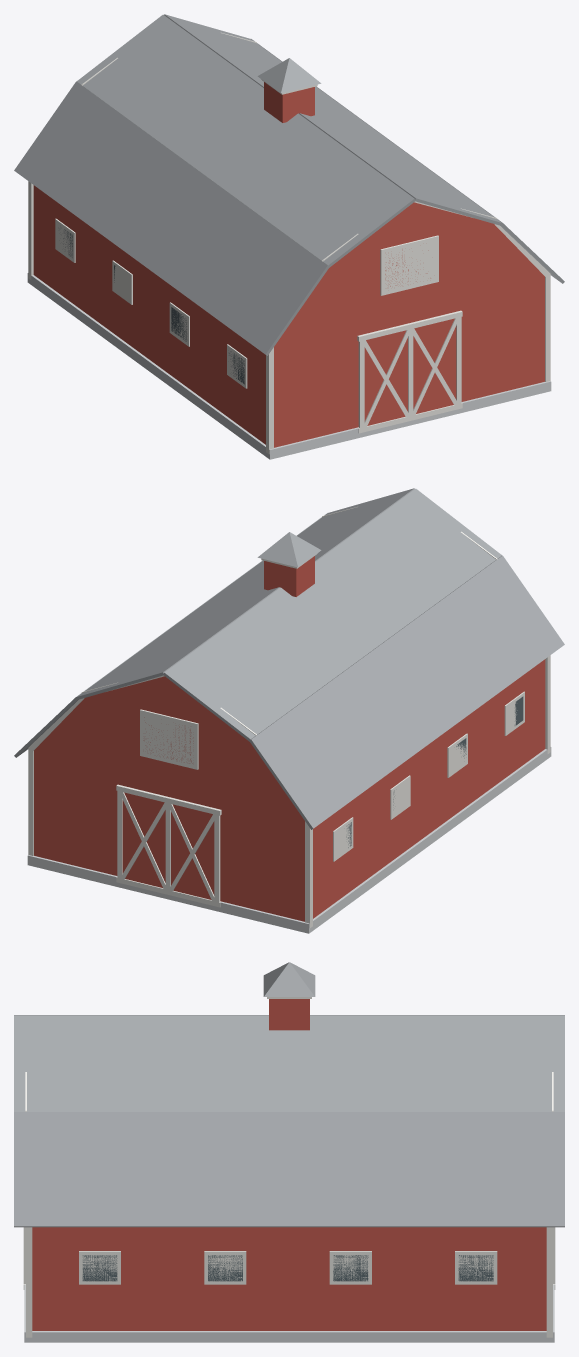
Rendered from Barn.fbx.
3 views of the same model, one above another, from view 1: azimuth 30°, elevation 25°; view 2: azimuth 150°, elevation 25°; view 3: azimuth 270°, elevation 25° (orthographic). The views are drawn at different scales.
Parts seen in each view (by area): view 1: Walls, RoofLow-1, RoofHigh-1, RoofHigh1, Door-1, Foundation, LoftFrame-1, Cupola, CupolaRoof, Corner-1L, DoorFrame-103.9, WindowFrame-13 (+9 smaller); view 2: Walls, RoofLow-1, RoofHigh-1, RoofHigh1, Door1, Foundation, LoftFrame1, Cupola, CupolaRoof, Corner1L, DoorFrame103.9, WindowFrame-13 (+8 smaller); view 3: RoofLow1, RoofHigh1, Walls, Foundation, CupolaRoof, WindowFrame11, WindowFrame12, WindowFrame13, Cupola, WindowFrame10, Window10, Window13 (+5 smaller).
Part boxes in pixels (x1,y1,x2,y2): Walls: (33, 185, 544, 447); RoofLow-1: (14, 81, 329, 355); RoofHigh-1: (77, 14, 415, 267); RoofHigh1: (164, 14, 501, 225); Door-1: (364, 318, 456, 425); Foundation: (27, 273, 551, 459); LoftFrame-1: (380, 235, 438, 295); Cupola: (264, 82, 314, 122); CupolaRoof: (257, 58, 321, 93); Corner-1L: (266, 347, 273, 453); DoorFrame-103.9: (357, 310, 462, 341); WindowFrame-13: (55, 218, 75, 262); Walls: (34, 659, 545, 921); RoofLow-1: (249, 555, 564, 829); RoofHigh-1: (163, 488, 501, 741); RoofHigh1: (77, 488, 414, 699); Door1: (122, 792, 214, 899); Foundation: (27, 747, 551, 933); LoftFrame1: (140, 709, 198, 769); Cupola: (264, 556, 314, 596); CupolaRoof: (257, 532, 321, 567); Corner1L: (305, 821, 312, 927); DoorFrame103.9: (116, 784, 221, 815); WindowFrame-13: (333, 817, 353, 861); RoofLow1: (14, 1112, 564, 1227); RoofHigh1: (14, 1015, 564, 1111); Walls: (32, 1227, 546, 1330); Foundation: (24, 1284, 554, 1342); CupolaRoof: (263, 962, 315, 996); WindowFrame11: (204, 1251, 246, 1284); WindowFrame12: (329, 1251, 371, 1284); WindowFrame13: (455, 1251, 497, 1284); Cupola: (269, 999, 309, 1030); WindowFrame10: (79, 1251, 120, 1284); Window10: (82, 1255, 117, 1281); Window13: (458, 1255, 493, 1281).
Bounding box in the file's own units: 12.99 × 11.55 × 18.9.
